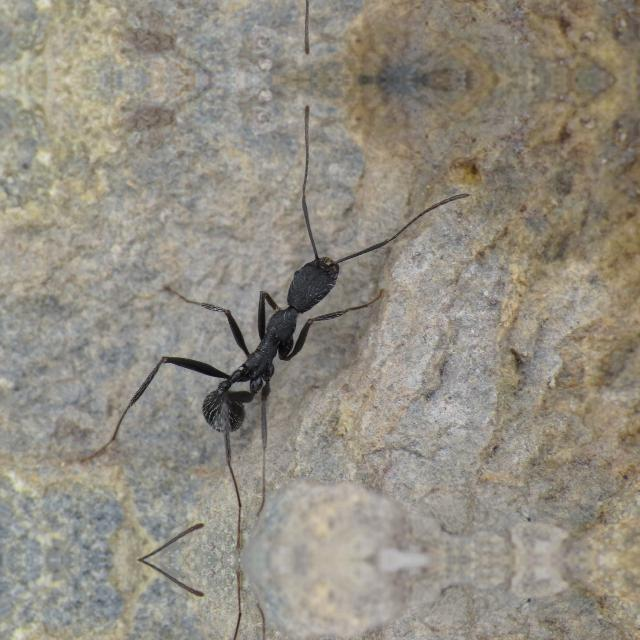Apheanogaster: (155, 225, 389, 460)
